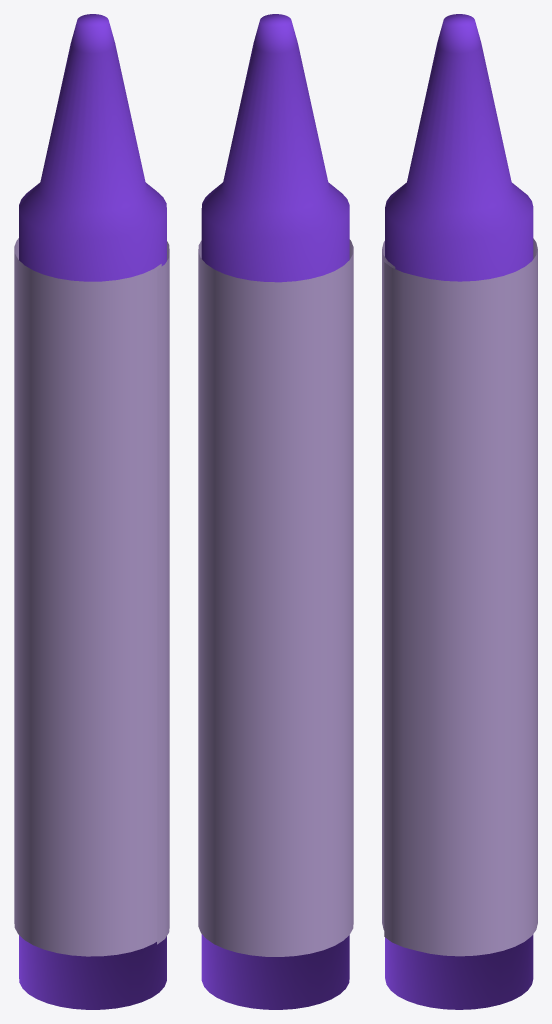
3 renders of one model, left to right at view 1: azimuth 30°, elevation 25°; view 2: azimuth 150°, elevation 25°; view 3: azimuth 270°, elevation 25°, orthographic.
Parts seen in each view (by area): view 1: Purple_Wrapper; view 2: Purple_Wrapper; view 3: Purple_Wrapper.
Part boxes in pixels (box(x1,y1,x2,y2)): Purple_Wrapper: box(14, 14, 169, 1009); Purple_Wrapper: box(198, 14, 353, 1009); Purple_Wrapper: box(382, 14, 537, 1009).
Bounding box in the file's own units: 0.0737 × 0.5 × 0.0737.
